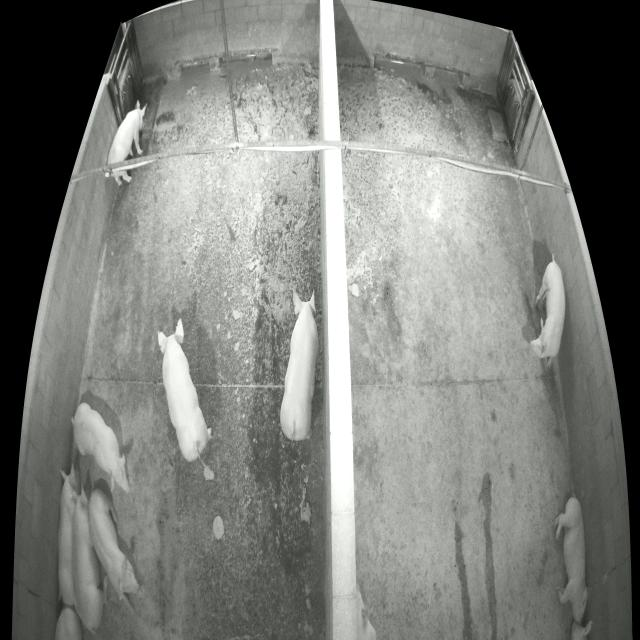pig: (158, 318, 212, 462), (89, 490, 141, 615), (280, 288, 319, 440), (71, 403, 130, 494), (72, 485, 107, 632), (555, 496, 588, 623), (530, 254, 565, 367), (108, 98, 148, 184), (58, 464, 79, 606), (356, 583, 376, 638), (56, 606, 82, 639)
